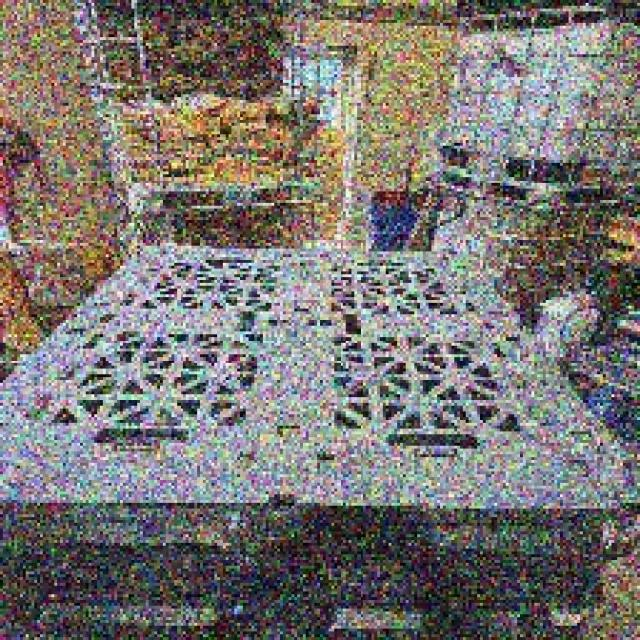igps: (0, 231, 640, 640), (0, 535, 616, 618), (0, 589, 614, 640)
